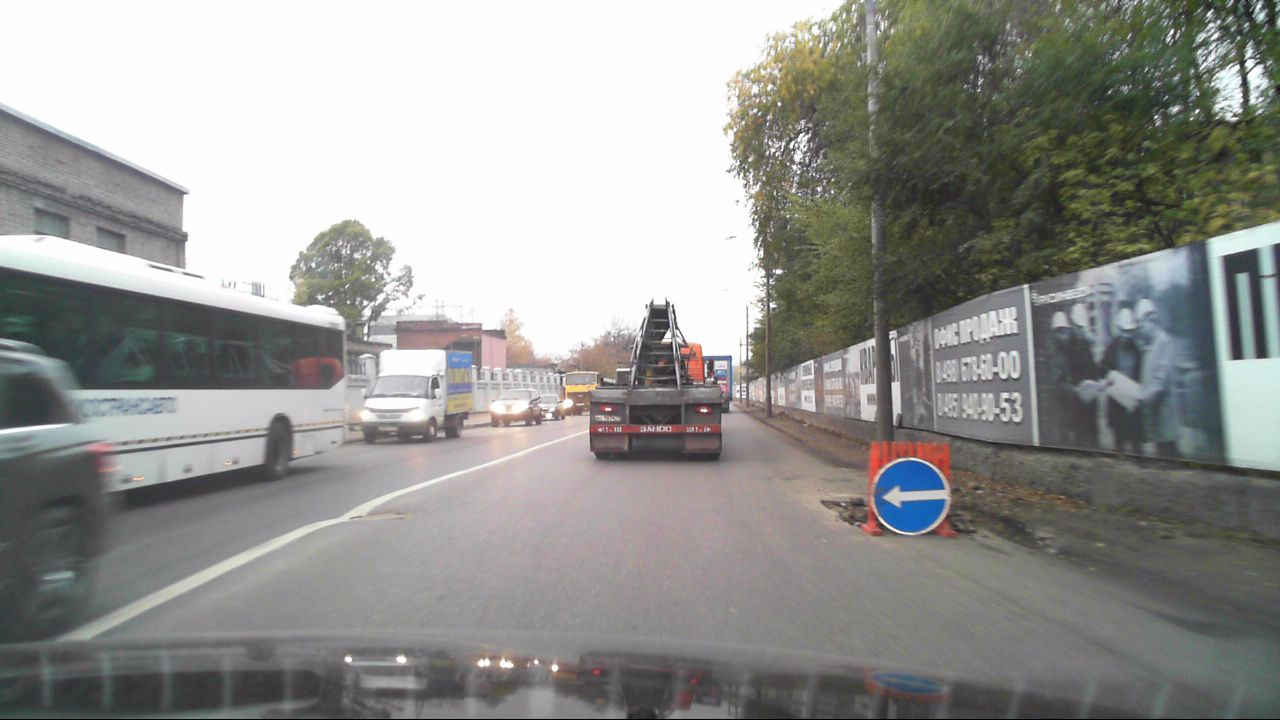Turn Left: (871, 456, 951, 535)
